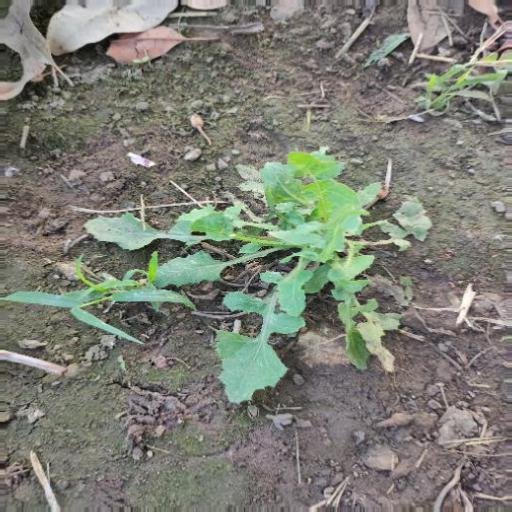weed: (85, 143, 434, 394)
